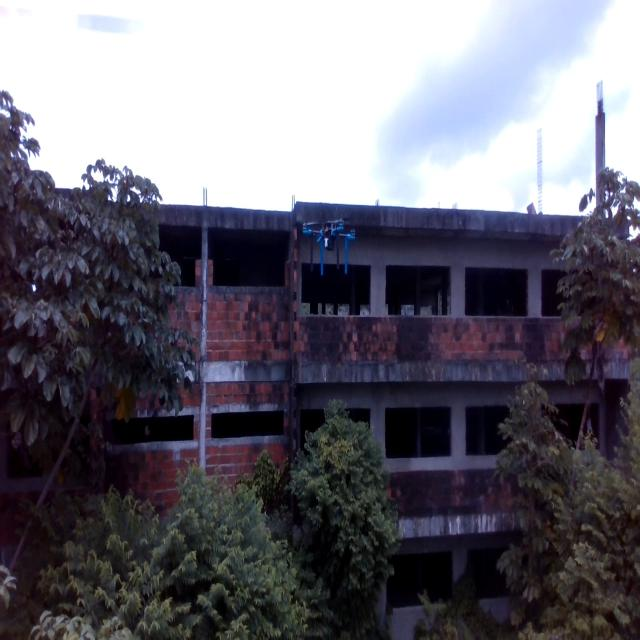-uav-: (298, 203, 368, 295)
